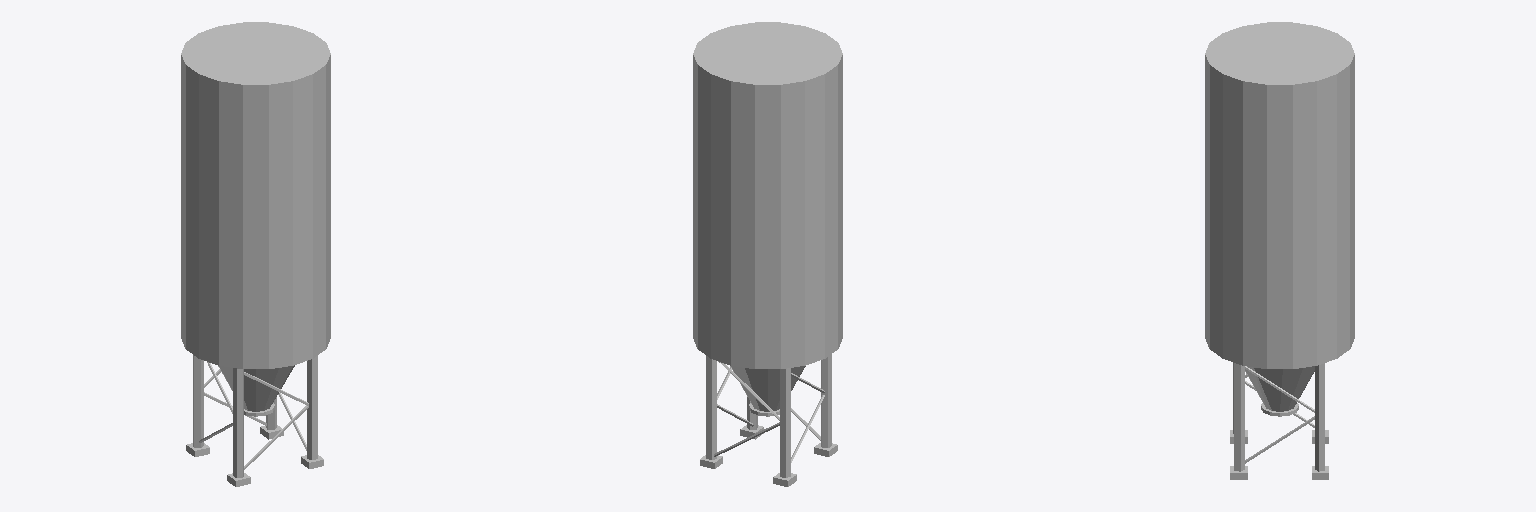
The model's file is Tank_Small.obj.
The picture shows the model from 3 angles: view 1: azimuth 30°, elevation 25°; view 2: azimuth 150°, elevation 25°; view 3: azimuth 270°, elevation 25°; orthographic projection.
Parts seen in each view (by area): view 1: Liquid_reservoir_2; view 2: Liquid_reservoir_2; view 3: Liquid_reservoir_2.
Boxes of the visible parts, box(x1,y1,x2,y2) form: Liquid_reservoir_2: box(181, 22, 330, 486); Liquid_reservoir_2: box(693, 22, 842, 486); Liquid_reservoir_2: box(1205, 22, 1354, 479).
Bounding box in the file's own units: 1.71 × 5.18 × 1.74.